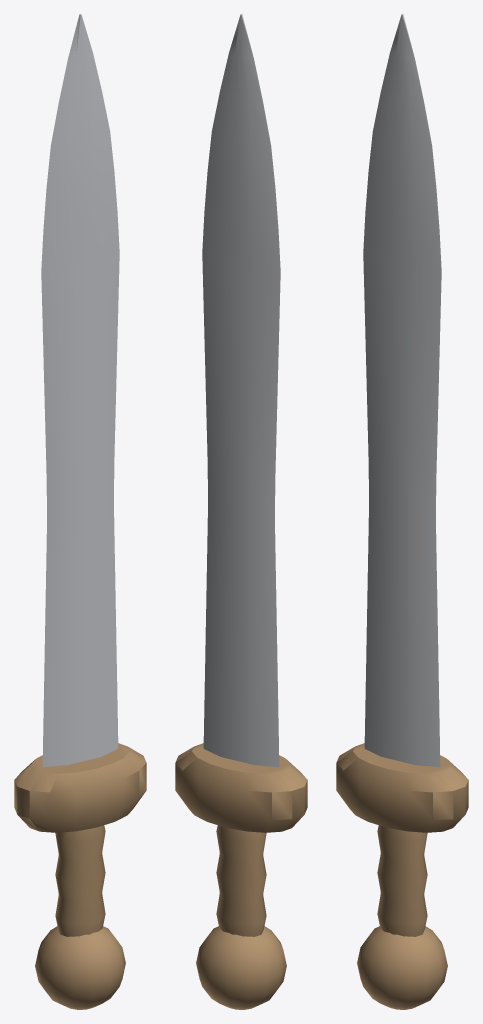
File: gladius.glb
The picture shows the model from 3 angles, left to right: view 1: azimuth 30°, elevation 25°; view 2: azimuth 150°, elevation 25°; view 3: azimuth 330°, elevation 25°; orthographic projection.
Visible parts, largest first — view 1: OUT; view 2: OUT; view 3: OUT.
Boxes of the visible parts, x1,y1,x2,y2 form: OUT: (14,14,146,1009); OUT: (175,14,307,1009); OUT: (336,14,468,1009).
Size of the model in its own units: 0.08 by 0.6 by 0.0487.
